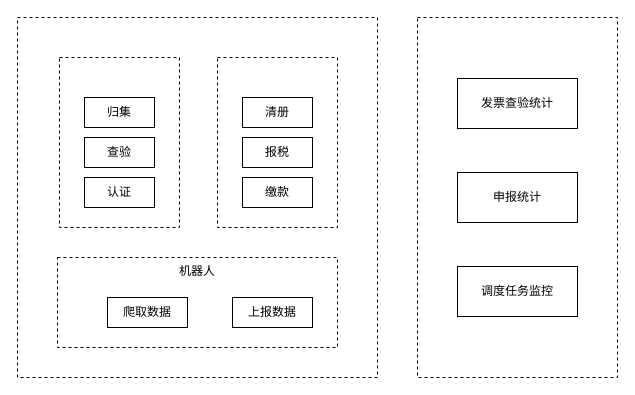
This 635x395 diagram has some shape labels left out. Each missing label, with the box of its shape:
业务: (16, 16, 378, 378)
发票: (58, 56, 180, 228)
申报: (216, 56, 338, 228)
运营: (416, 16, 618, 378)
